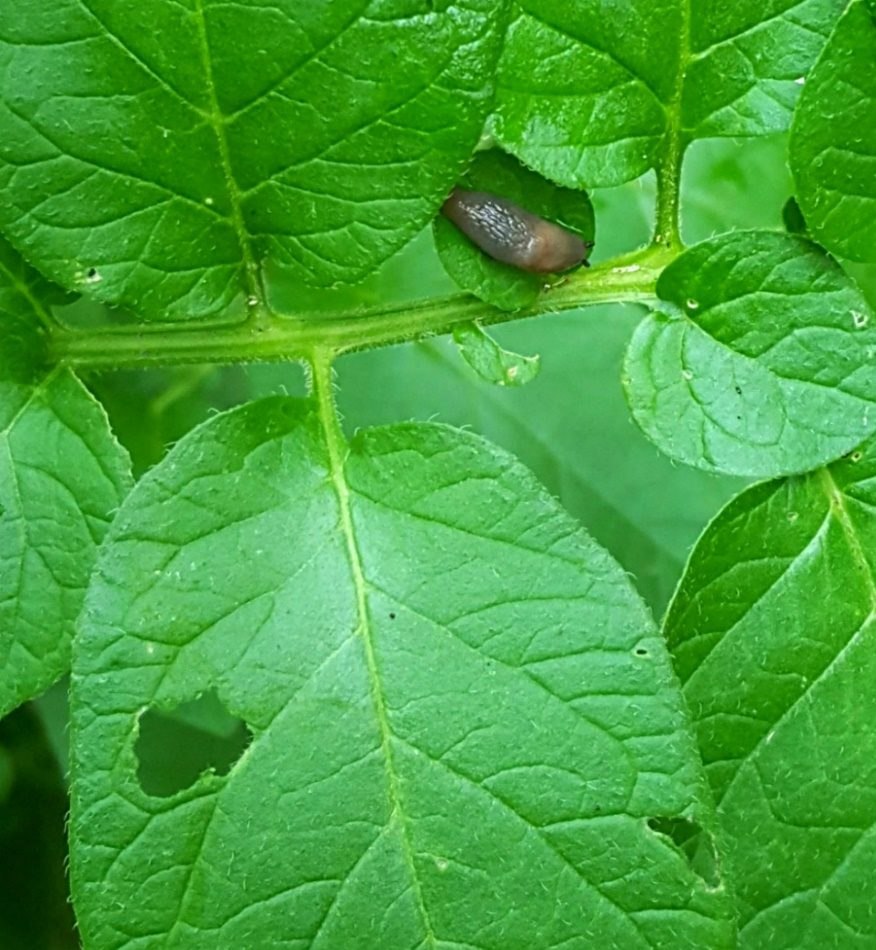slug: (445, 183, 590, 276)
